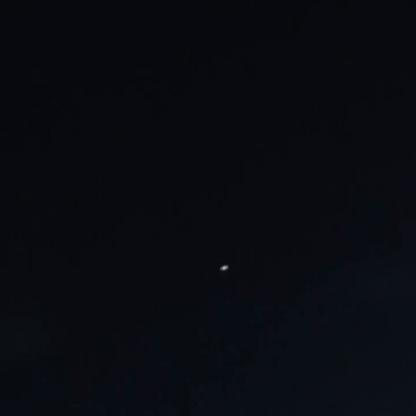ball: (214, 259, 232, 277)
